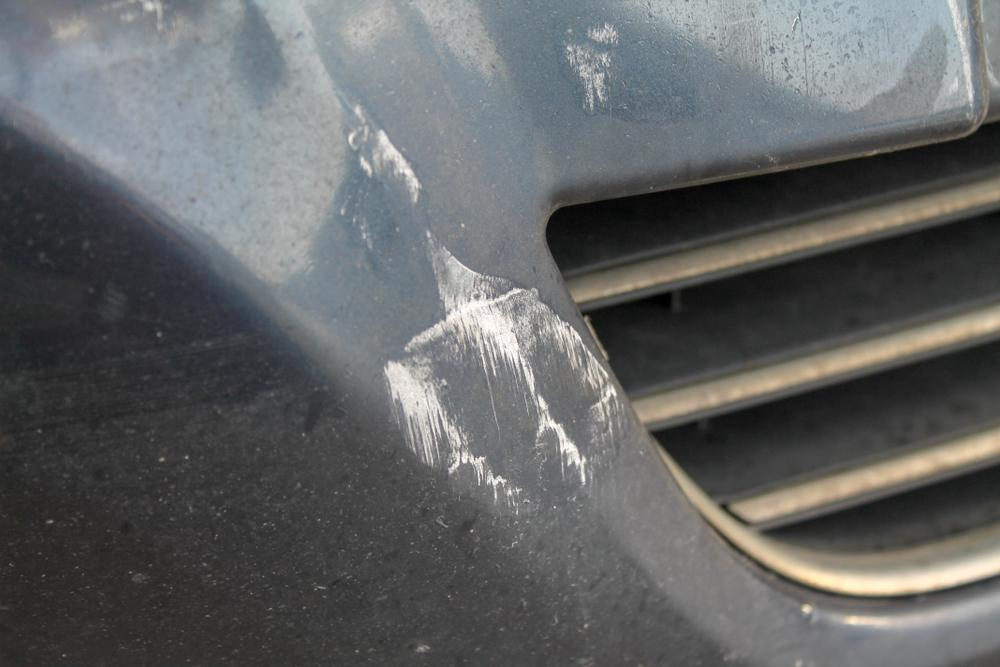scratch: (336, 116, 629, 518)
